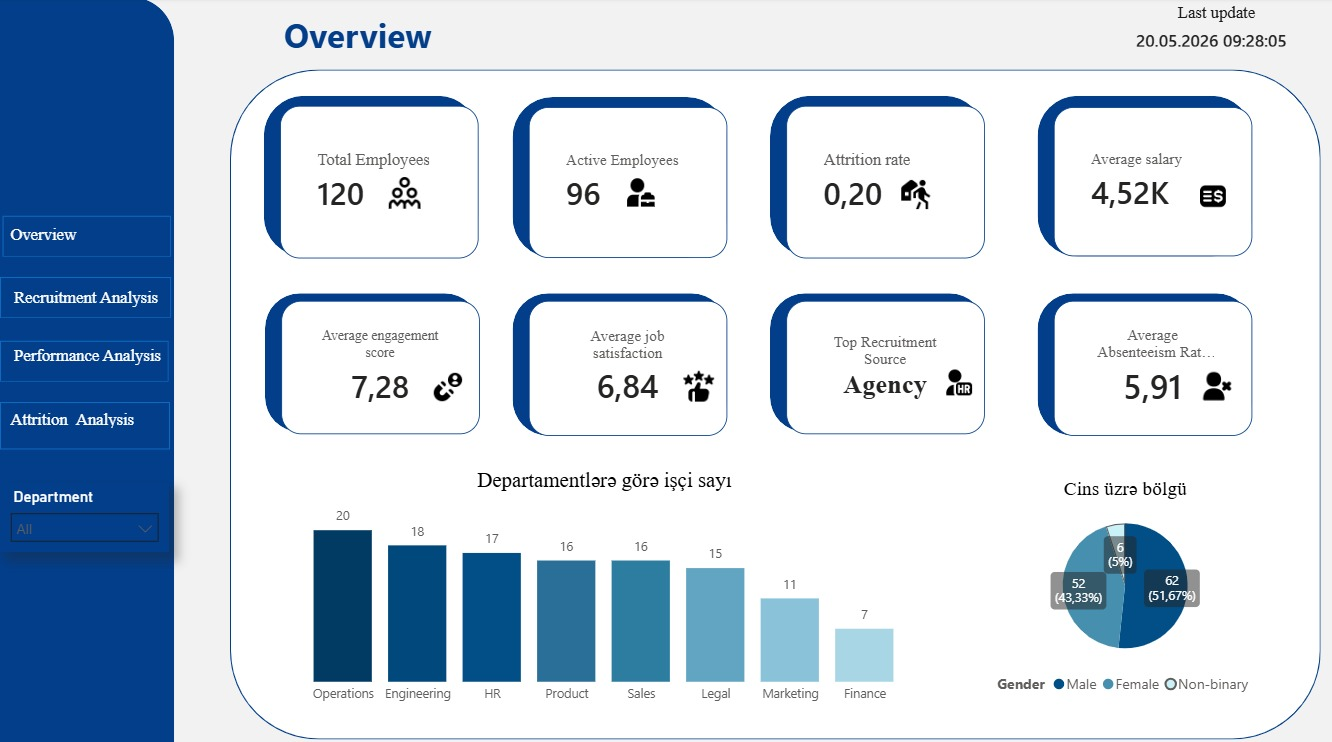

Layout of this report page (visuals, bound fields, positions):
{"tool":"powerbi","page":{"name":"Page 1","canvas":[1280,720],"ordinal":0},"visuals":[{"type":"shape","box":[220,69.4,1045.9,642.4],"z":0},{"type":"shape","box":[0,0,167.1,721.2],"z":1000},{"type":"textbox","box":[8.2,274.1,184.7,34.1],"z":30000},{"type":"textbox","box":[8.2,329.4,167.1,44.7],"z":31000},{"type":"textbox","box":[8.2,395.3,184.7,47.1],"z":32000},{"type":"textbox","box":[4.7,390.6,167.1,44.7],"z":33000},{"type":"shape","box":[2.4,209.7,161.8,39.6],"z":51000},{"type":"textbox","box":[4.3,213.5,145.7,39],"z":52000},{"type":"shape","box":[0,268.5,164.2,39.6],"z":53000},{"type":"shape","box":[0,329.6,161.8,39.6],"z":54000},{"type":"shape","box":[0,390.6,162.4,45.9],"z":56000},{"type":"shape","box":[0,388.3,163,45.5],"z":61000},{"type":"cardVisual","title":"Last update","fields":{"Rows":["Query1.Column1"]},"box":[1052.4,6.1,228,101.2],"z":62000},{"type":"shape","box":[252.9,92.3,200.1,131.8],"z":63000},{"type":"card","fields":{"Values":["Employee Data.Total Employees"]},"box":[267.3,101.9,185.8,122.2],"z":64000},{"type":"shape","box":[771.8,92.3,200.1,131.8],"z":65000},{"type":"shape","box":[496.2,92.3,200.1,131.8],"z":66000},{"type":"shape","box":[1027.1,92.3,200.1,131.8],"z":67000},{"type":"card","fields":{"Values":["Employee Data.Active Employees"]},"box":[510.6,101.9,185.8,122.2],"z":68000},{"type":"card","fields":{"Values":["Employee Data.Inactive Employees"]},"box":[786.2,101.9,185.8,122.2],"z":69000},{"type":"card","fields":{"Values":["Employee Data.Attrition Rate %"]},"box":[1041.5,101.9,185.8,122.2],"z":70000},{"type":"shape","box":[252.5,252.5,387.5,247.2],"z":71000},{"type":"clusteredBarChart","title":"Attrition rate by Department","fields":{"Category":["Employee Data.Department"],"Y":["Employee Data.Attrition Rate %"]},"box":[259.2,256.5,372.8,236.5],"z":72000},{"type":"shape","box":[658.7,252.5,314,247.2],"z":73000},{"type":"shape","box":[244.5,507.7,528,188.4],"z":74000},{"type":"lineChart","title":"Attrition Rate by Tenure Group","fields":{"Category":["Employee Data.Tenure Group"],"Y":["Employee Data.Attrition Rate %"]},"box":[666.7,257.9,299.3,235.2],"z":75000},{"type":"shape","box":[987.4,251.2,265.9,248.5],"z":76000},{"type":"pivotTable","fields":{"Rows":["Employee Data.Recruitment Source"],"Values":["Employee Data.Attrition Rate %"]},"box":[992.7,255.2,256.5,241.8],"z":77000},{"type":"columnChart","title":"Attrition Rate by Performance Rating (Current Year)","fields":{"Category":["Employee Data.Performance Rating (Current Year)"],"Y":["Employee Data.Attrition Rate %"]},"box":[252.5,514.4,509.1,176.4],"z":78000},{"type":"textbox","box":[220.5,6.7,503.7,62.8],"z":79000},{"type":"shape","box":[793.7,507.7,436.9,188.4],"z":80000},{"type":"textbox","box":[807,514.4,410.2,183],"z":81000},{"type":"slicer","fields":{"Values":["Employee Data.Department"]},"box":[0,466.3,161.7,65.5],"z":82000}]}

Visuals, with their boxes on the page's 1280x720 design canvas (x1, y1, x2, y2). These are canvas units, not pixel positions in the 1332x742 screenshot, which may show the page scaled, cropped or inside an application window:
shape: BBox(220, 69, 1266, 712)
shape: BBox(0, 0, 167, 721)
textbox: BBox(8, 274, 193, 308)
textbox: BBox(8, 329, 175, 374)
textbox: BBox(8, 395, 193, 442)
textbox: BBox(5, 391, 172, 435)
shape: BBox(2, 210, 164, 249)
textbox: BBox(4, 214, 150, 252)
shape: BBox(0, 268, 164, 308)
shape: BBox(0, 330, 162, 369)
shape: BBox(0, 391, 162, 436)
shape: BBox(0, 388, 163, 434)
"Last update" cardVisual: BBox(1052, 6, 1280, 107)
shape: BBox(253, 92, 453, 224)
card - Employee Data.Total Employees: BBox(267, 102, 453, 224)
shape: BBox(772, 92, 972, 224)
shape: BBox(496, 92, 696, 224)
shape: BBox(1027, 92, 1227, 224)
card - Employee Data.Active Employees: BBox(511, 102, 696, 224)
card - Employee Data.Inactive Employees: BBox(786, 102, 972, 224)
card - Employee Data.Attrition Rate %: BBox(1042, 102, 1227, 224)
shape: BBox(252, 252, 640, 500)
"Attrition rate by Department" clusteredBarChart: BBox(259, 256, 632, 493)
shape: BBox(659, 252, 973, 500)
shape: BBox(244, 508, 772, 696)
"Attrition Rate by Tenure Group" lineChart: BBox(667, 258, 966, 493)
shape: BBox(987, 251, 1253, 500)
pivotTable - Employee Data.Recruitment Source x Employee Data.Attrition Rate %: BBox(993, 255, 1249, 497)
"Attrition Rate by Performance Rating (Current Year)" columnChart: BBox(252, 514, 762, 691)
textbox: BBox(220, 7, 724, 70)
shape: BBox(794, 508, 1231, 696)
textbox: BBox(807, 514, 1217, 697)
slicer - Employee Data.Department: BBox(0, 466, 162, 532)
